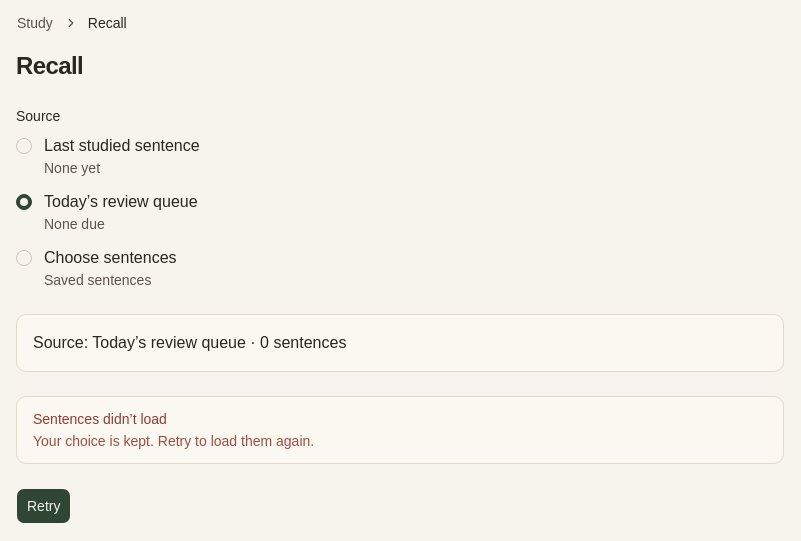
Test: Recall can retry a failed queue load even though the list is empty
The width and height of the screenshot is (801, 541).
Click the button "Retry". click: [44, 506]
box: [16,488,72,524]
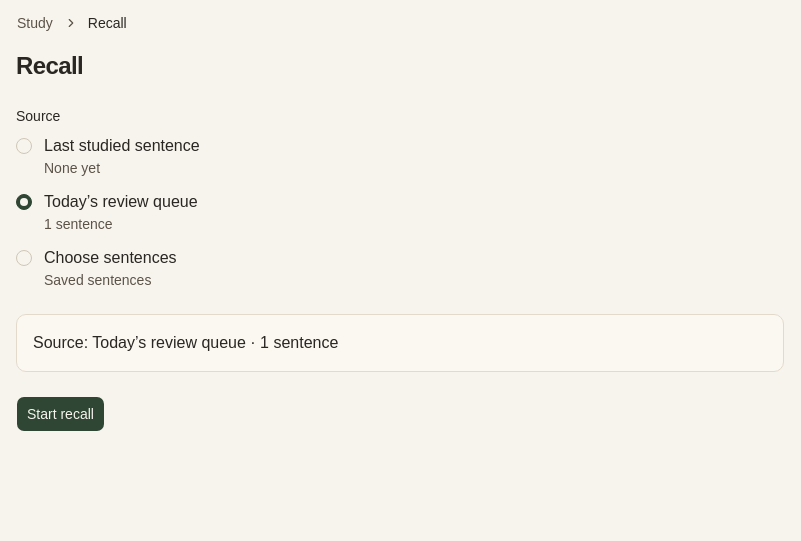
Result: the text "Sentences didn’t load" is gone
